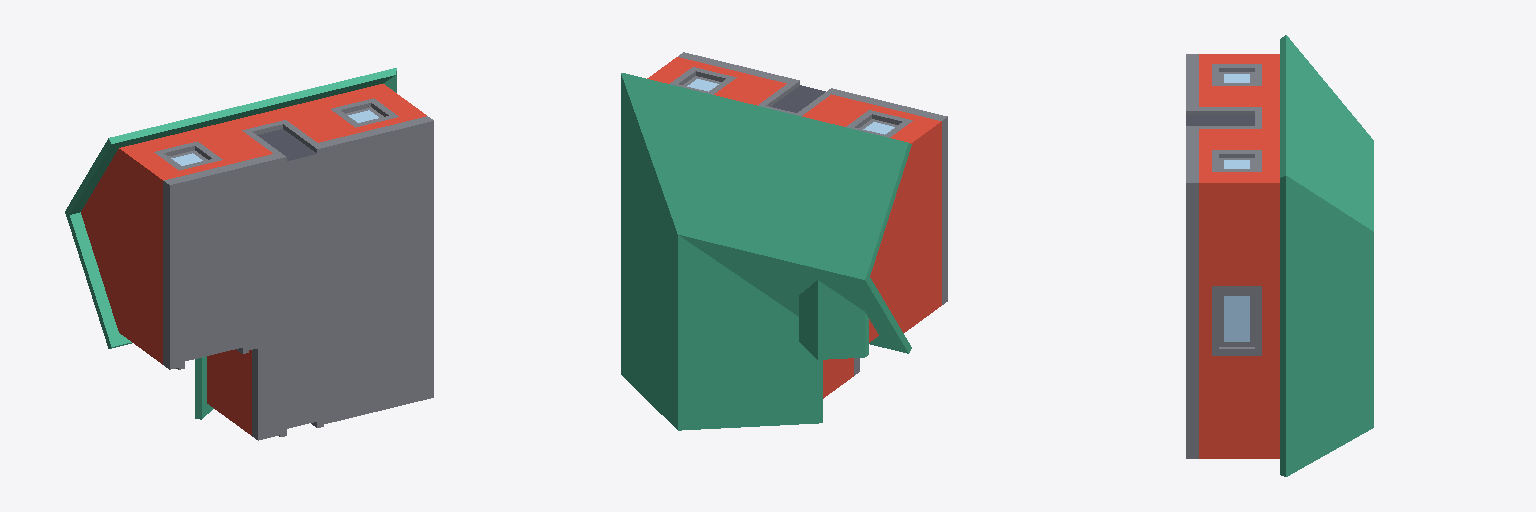
Rendered from house_type05.obj.
3 renders of one model, left to right at view 1: azimuth 30°, elevation 25°; view 2: azimuth 150°, elevation 25°; view 3: azimuth 270°, elevation 25°, orthographic.
Visible parts, largest first — view 1: house_type05; view 2: house_type05; view 3: house_type05.
Boxes of the visible parts, box(x1,y1,x2,y2) form: house_type05: box(65, 68, 433, 440); house_type05: box(621, 52, 947, 430); house_type05: box(1186, 35, 1373, 476).
Bounding box in the file's own units: 1.31 × 1.31 × 0.7375.